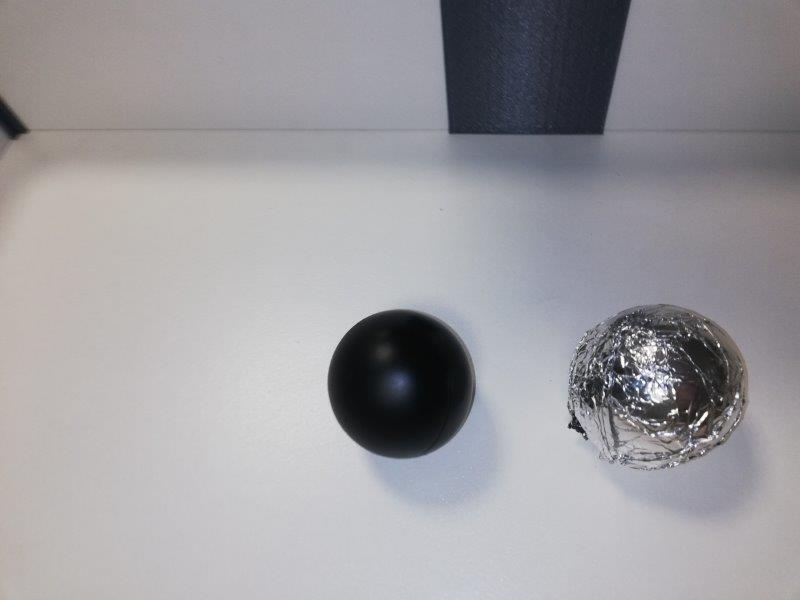bianca: (567, 301, 749, 471)
nera: (328, 308, 480, 461)
